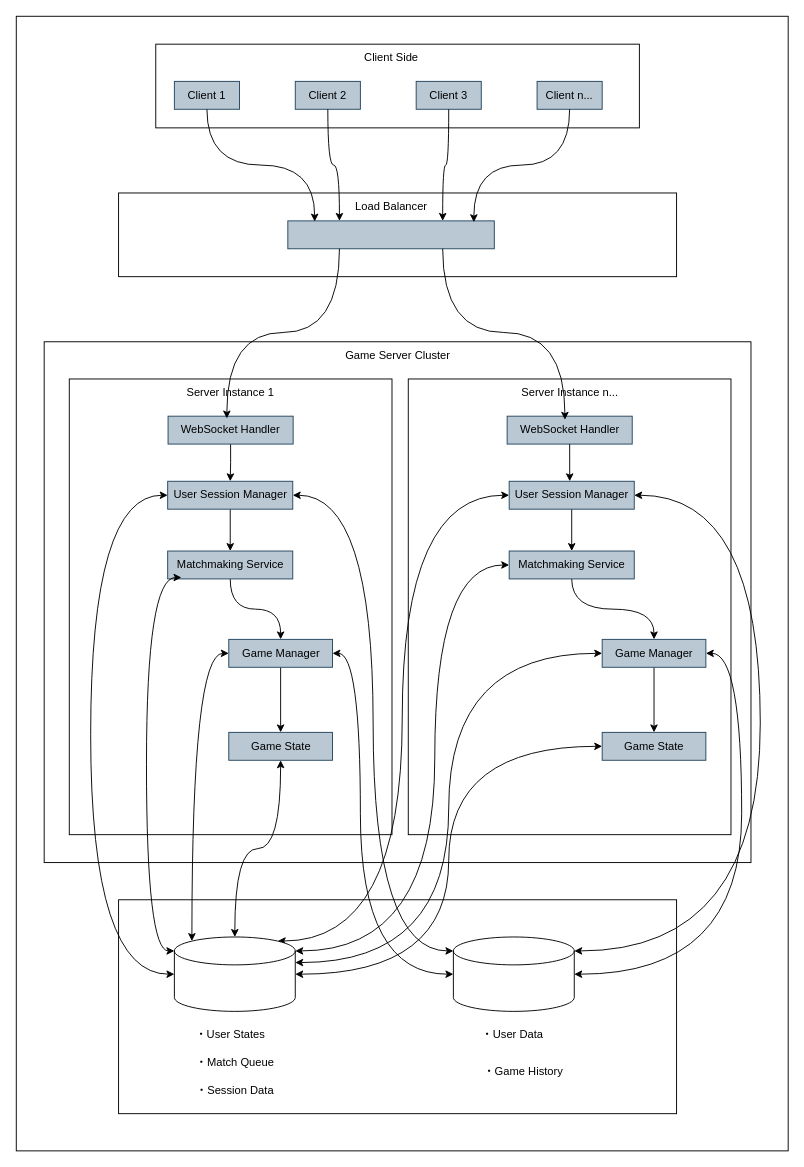
This 804x1167 diagram has some shape labels left out. The shapes that lost their labels are listed below. From the top down, each one's centre as x and y in pixels, then its label:
At pixel 390 234: "Load Balancer / Reverse Proxy".
At pixel 234 973: "Redis".
At pixel 513 973: "PostgreSQL".
